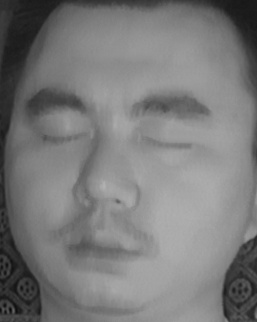blink: (139, 121, 192, 161), (39, 117, 91, 153)
mouth: (55, 216, 144, 274)
